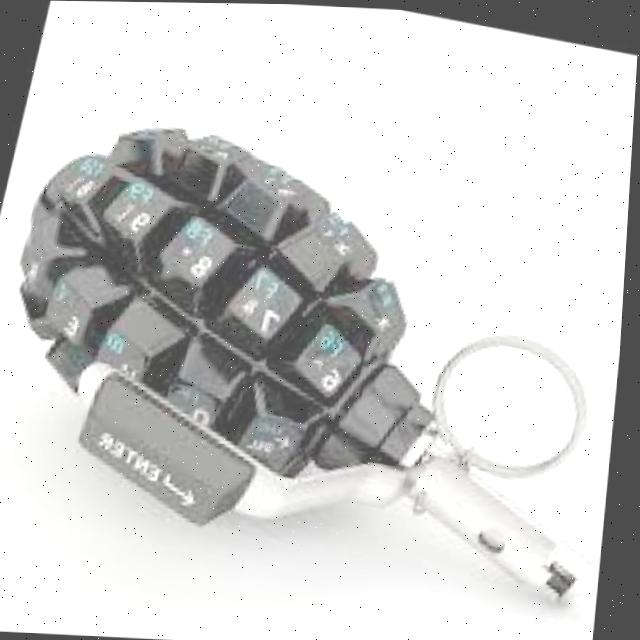grenade: (0, 88, 636, 611)
